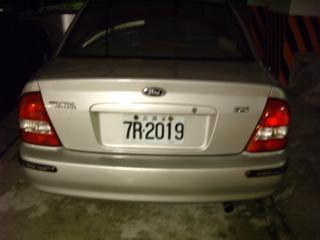plate: (120, 113, 187, 145)
